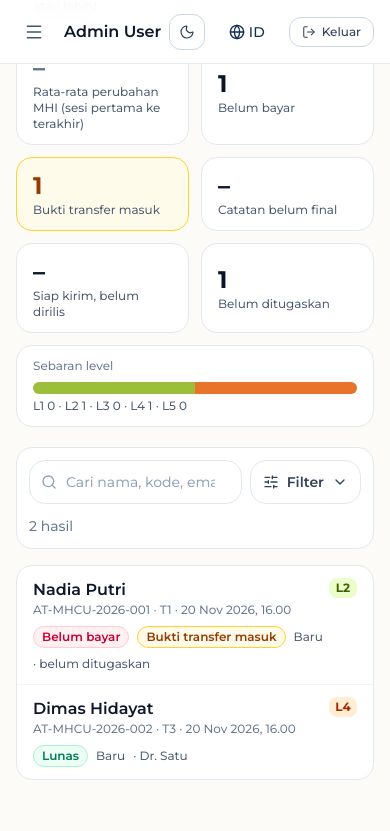
Test: MHCU dashboard › on a phone the filters wait behind one button and show how many are active
This screenshot has width=390, height=831.
(page scrolled)
Click the button "Filter" at (305, 482), box top-left (250, 460), bottom-right (361, 504)
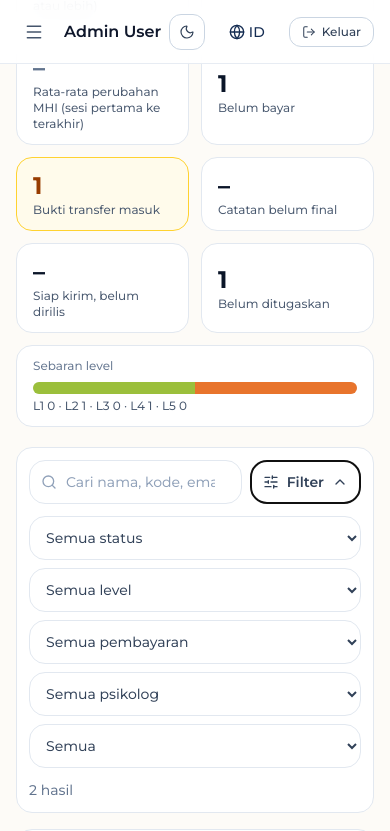
Expected: the button "Filter" is expanded, top-left (250, 460), bottom-right (361, 504)
Select "Level 4" in the 2nd dropdown named "level" at (195, 590), box top-left (29, 568), bottom-right (361, 612)
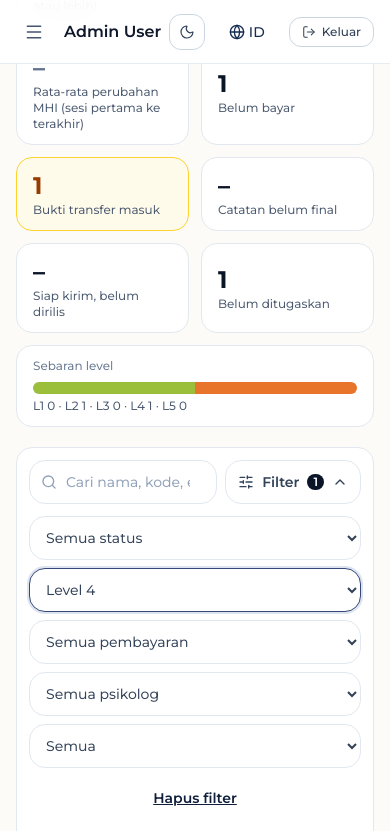
Expected: the button "Filter 1" is shown, top-left (225, 460), bottom-right (361, 504)
Click the button "Hapus filter" at (195, 798), box top-left (29, 776), bottom-right (361, 820)
(page scrolled)
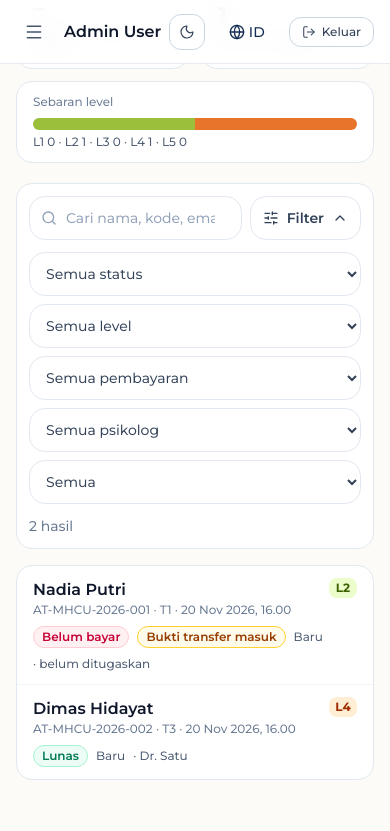
Expected: the text "Nadia Putri" is shown, top-left (33, 580), bottom-right (126, 599)
